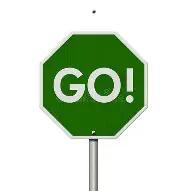Go: (40, 32, 147, 138)
